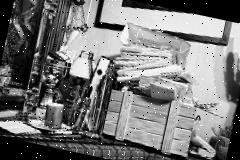paper: (118, 21, 192, 58), (0, 115, 43, 140), (63, 29, 90, 61), (147, 80, 180, 104), (42, 100, 66, 130)
